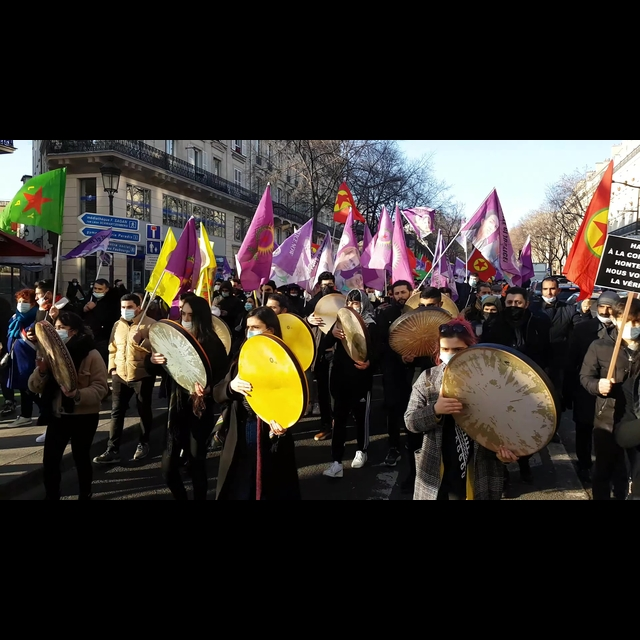YPJ: (13, 183, 53, 222)
